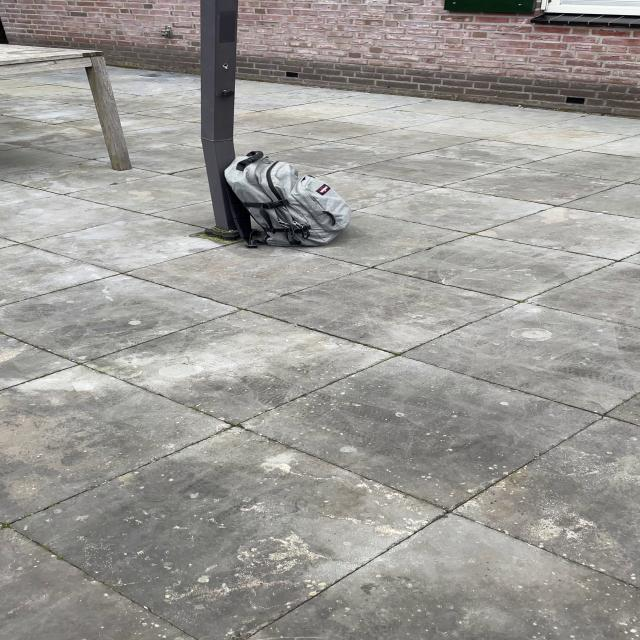backpack: (215, 148, 357, 251)
